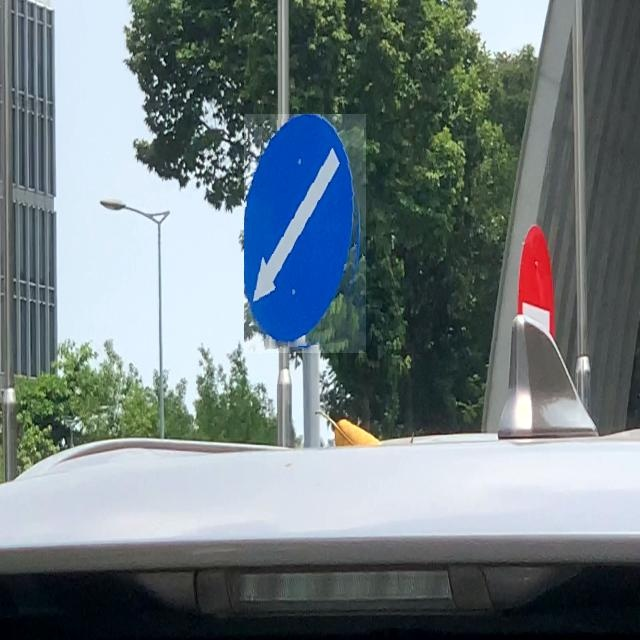bien_cam: (244, 114, 366, 353)
